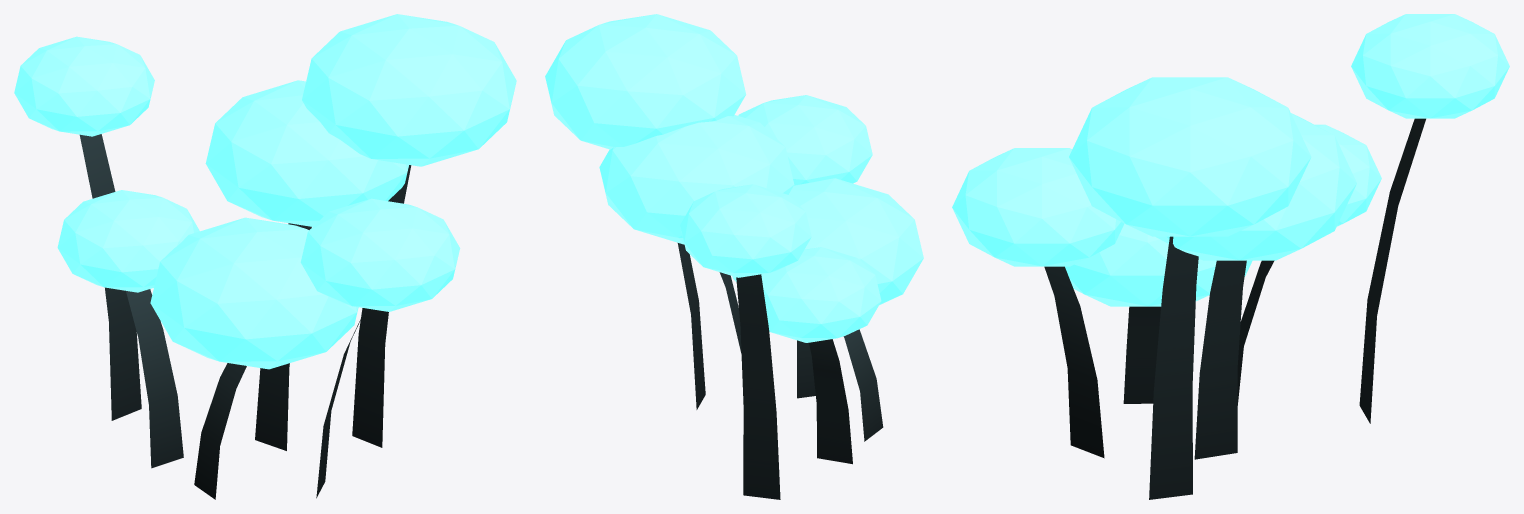
File: mushroom_glow_1.glb
3 renders of one model, left to right at view 1: azimuth 30°, elevation 25°; view 2: azimuth 150°, elevation 25°; view 3: azimuth 270°, elevation 25°, orthographic. The views are drawn at different scales.
Visible parts, largest first — view 1: GlowMushrooms; view 2: GlowMushrooms; view 3: GlowMushrooms.
Part boxes in pixels (x1,y1,x2,y2): GlowMushrooms: [14, 14, 516, 499]; GlowMushrooms: [545, 14, 923, 499]; GlowMushrooms: [952, 14, 1509, 499].
Bounding box in the file's own units: 0.3603 × 0.3566 × 0.4138.
